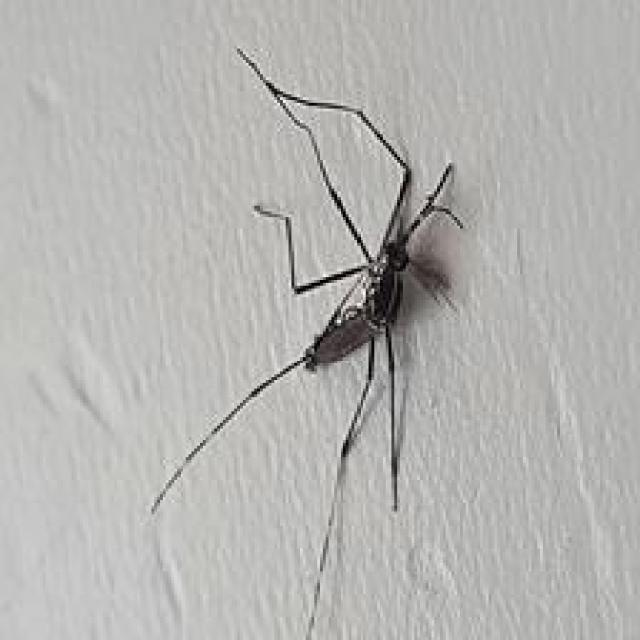Aedes albopictus: (147, 45, 467, 640)
